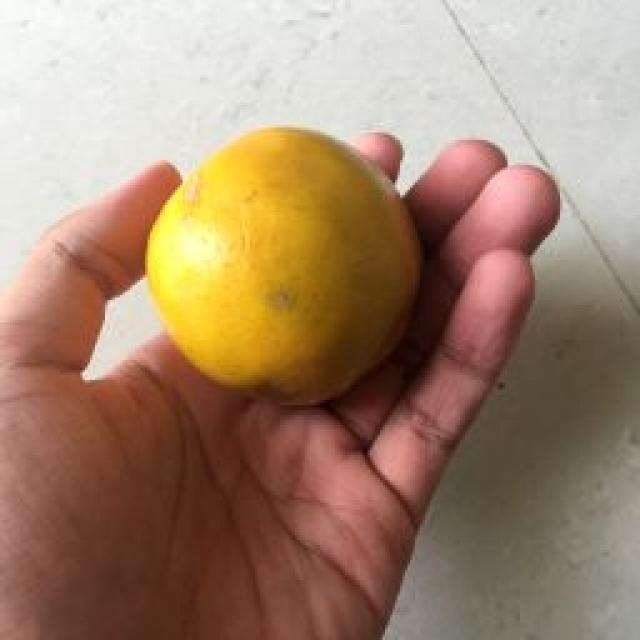Good_Orange: (145, 125, 428, 405)
